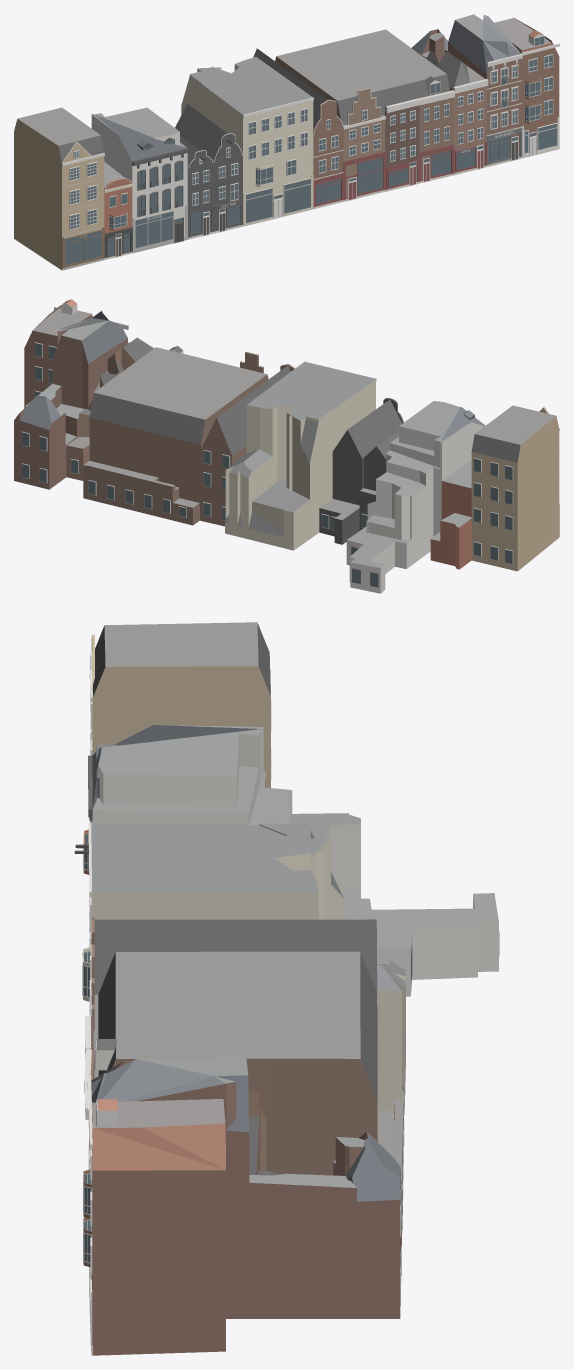
Rendered from chunk-face-utrechtse-48-76.glb.
The picture shows the model from 3 angles, top to bottom: view 1: azimuth 30°, elevation 25°; view 2: azimuth 150°, elevation 25°; view 3: azimuth 270°, elevation 25°; orthographic projection. The views are drawn at different scales.
Visible parts, largest first — view 1: face-utrechtse-48-76; view 2: face-utrechtse-48-76; view 3: face-utrechtse-48-76.
Part boxes in pixels (left/top/right/bottom): face-utrechtse-48-76: left=14, top=14, right=559, bottom=270; face-utrechtse-48-76: left=14, top=299, right=559, bottom=593; face-utrechtse-48-76: left=74, top=622, right=499, bottom=1355.
Bounding box in the file's own units: 75.47 × 18.02 × 27.68.
